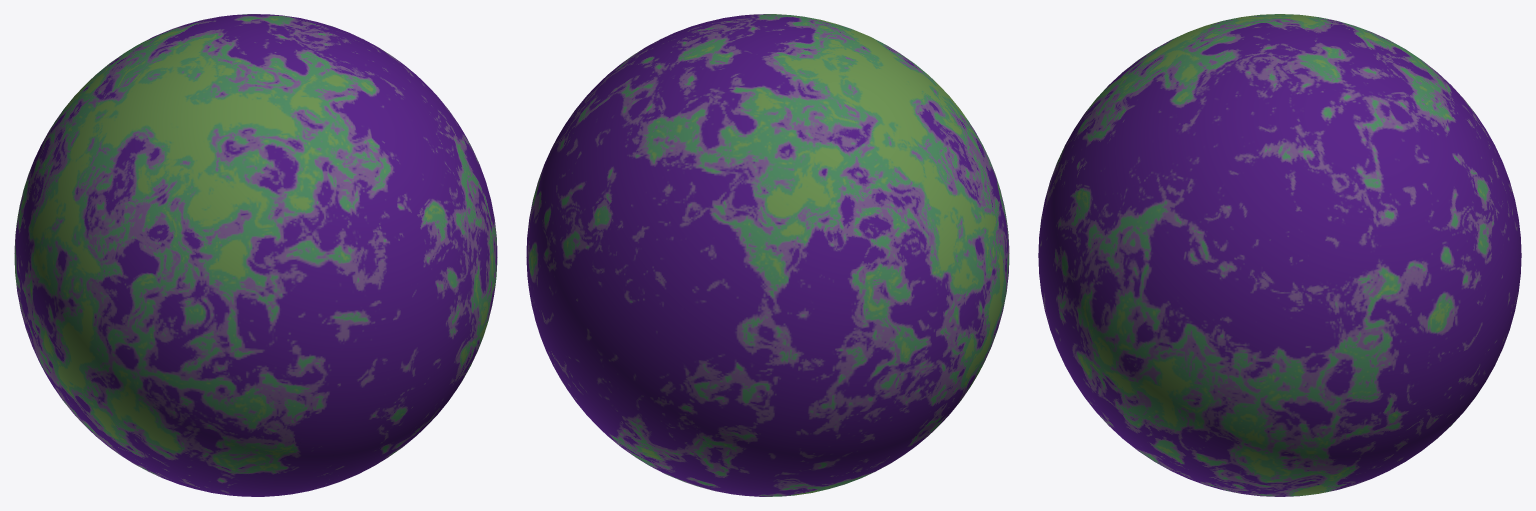
The model's file is PlanetSurface.fbx.
The picture shows the model from 3 angles, left to right: view 1: azimuth 30°, elevation 25°; view 2: azimuth 150°, elevation 25°; view 3: azimuth 270°, elevation 25°; orthographic projection.
Visible parts, largest first — view 1: Planet; view 2: Planet; view 3: Planet.
Part boxes in pixels (<box>): Planet: <box>14,14,497,496</box>; Planet: <box>526,14,1009,496</box>; Planet: <box>1038,14,1521,496</box>.
Size of the model in its own units: 1000 by 1000 by 1000.
